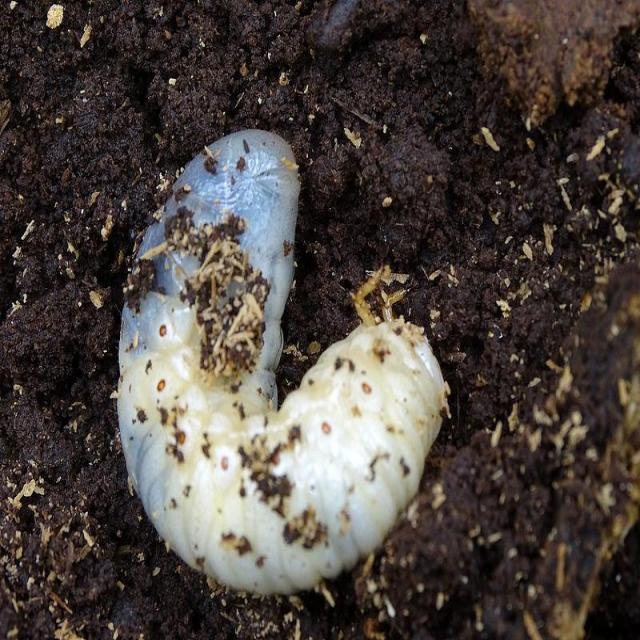Grub-Adult-: (101, 109, 463, 604)
